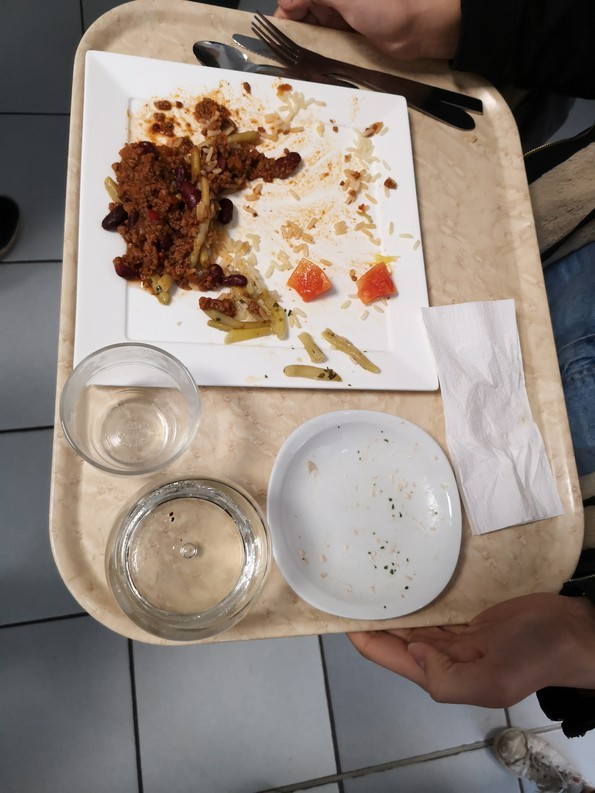cup: (43, 335, 219, 492)
cutlery: (187, 7, 507, 139)
orga: (104, 99, 302, 345)
trash: (419, 296, 576, 541)
